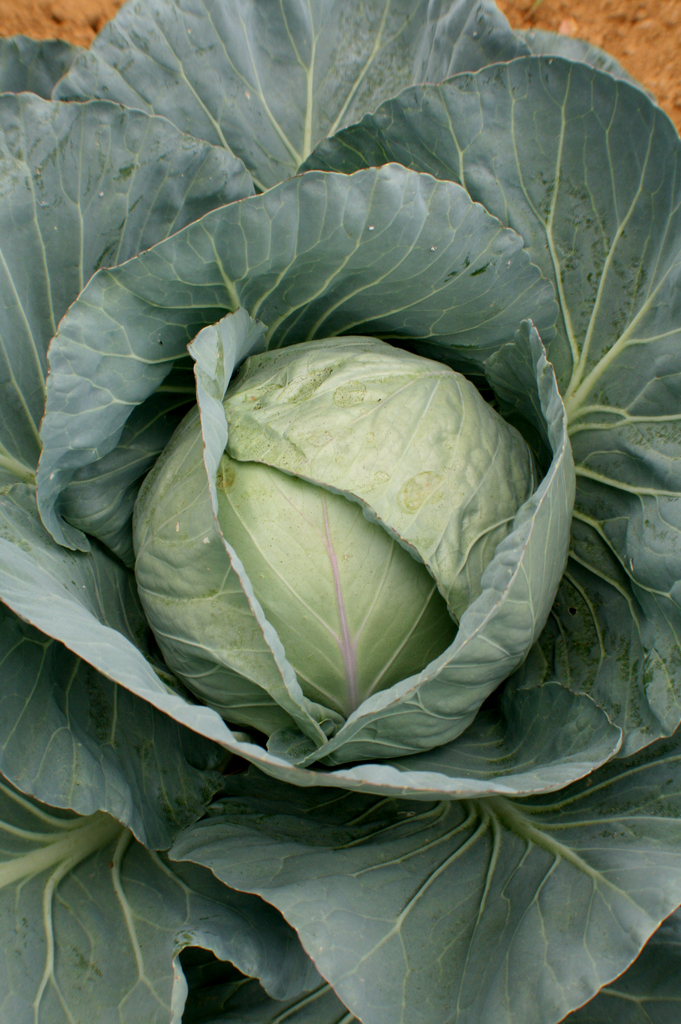Cabbage: (0, 0, 680, 1024)
